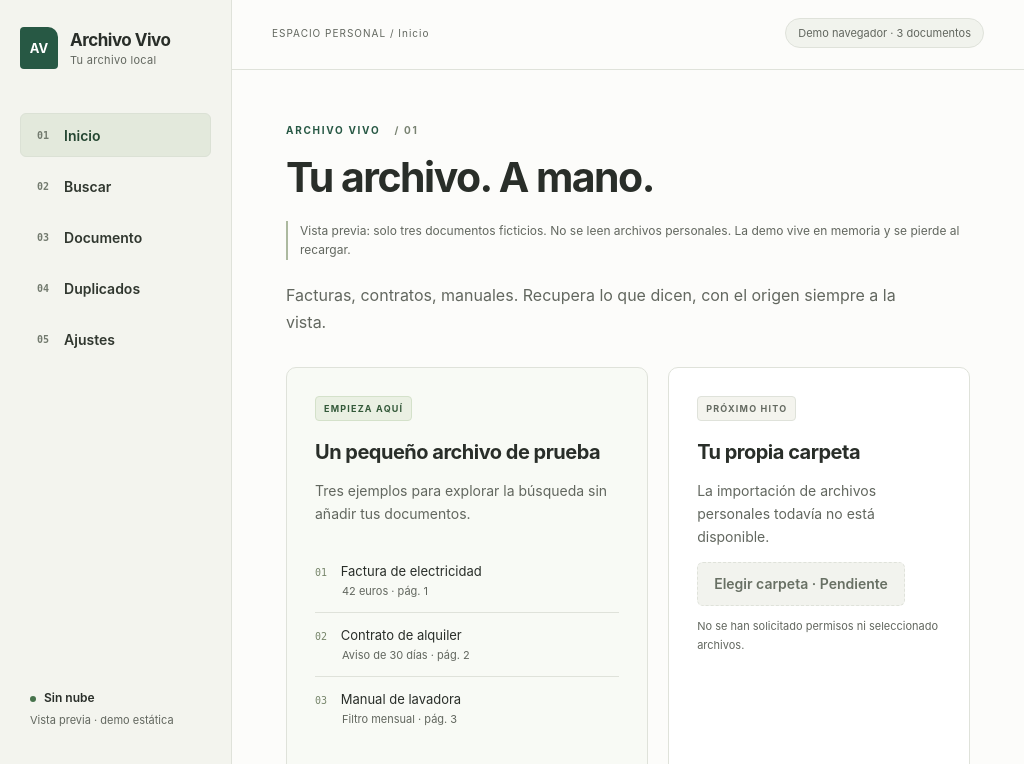
Test: marca duplicados y exportación como pendientes y borra la demo con confirmación
The width and height of the screenshot is (1024, 764).
Click the button "04 Duplicados".
click(116, 288)  # box [20, 266, 211, 310]
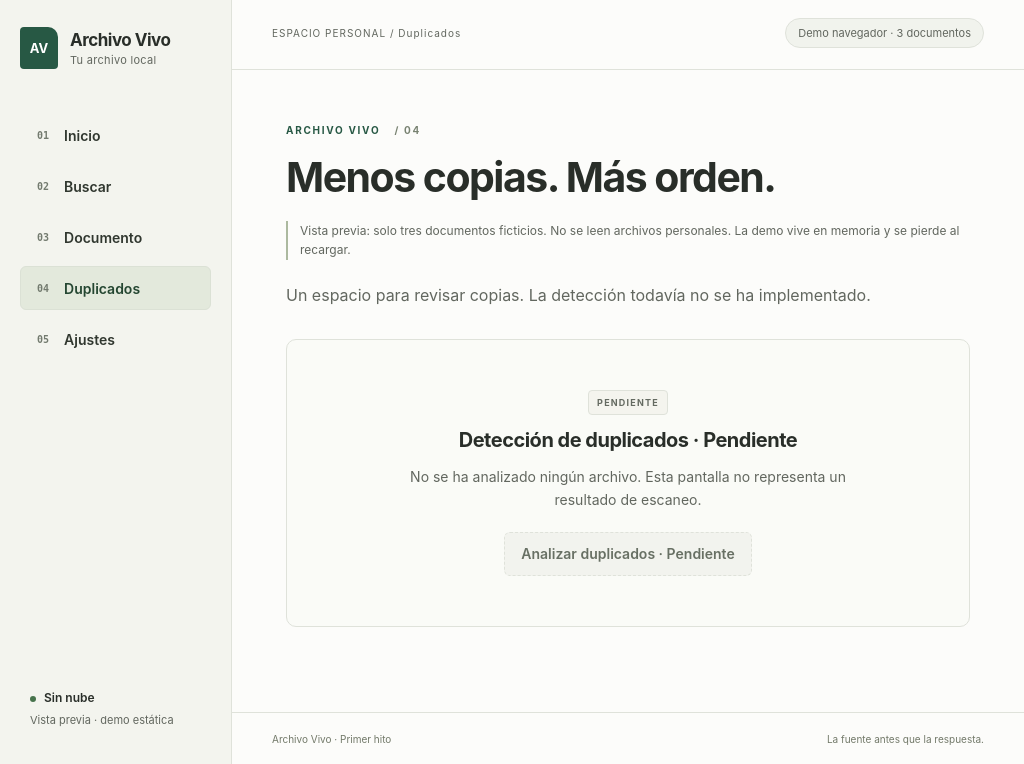
Now the heading "Detección de duplicados · Pendiente" is shown, box [459, 428, 797, 452]
Click the button "05 Ajustes".
click(116, 339)  # box [20, 317, 211, 361]
(page scrolled)
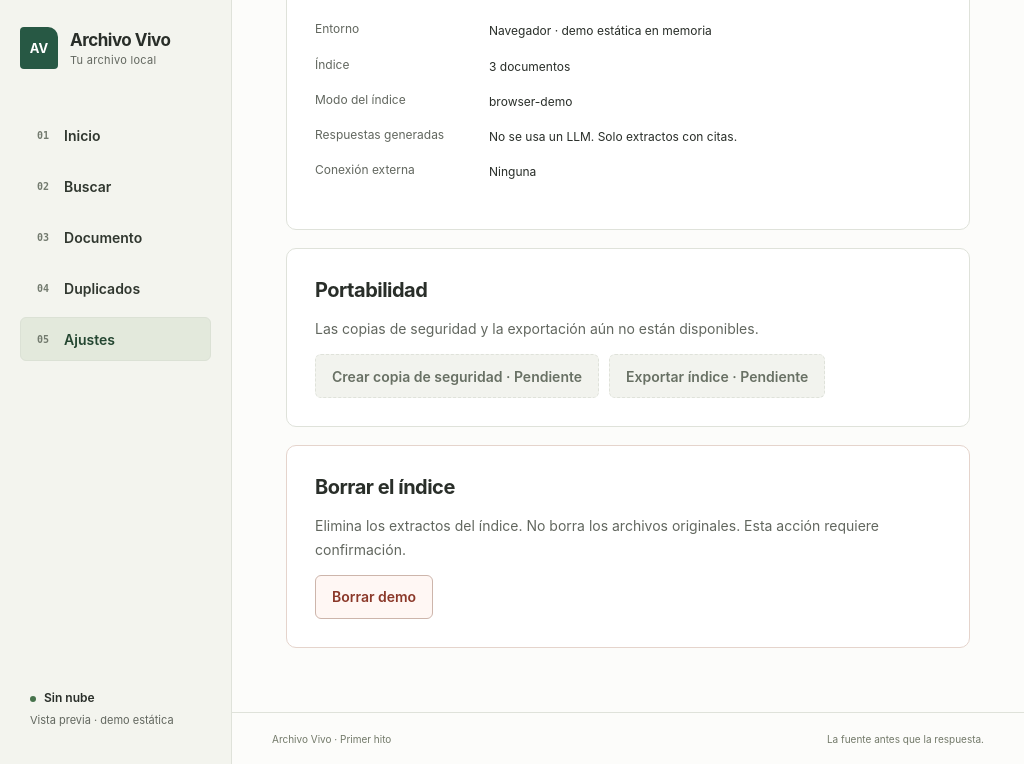
Now the button "Exportar índice · Pendiente" is disabled, box [609, 354, 825, 398]
Click the button "Borrar demo".
click(374, 597)  # box [315, 575, 433, 619]
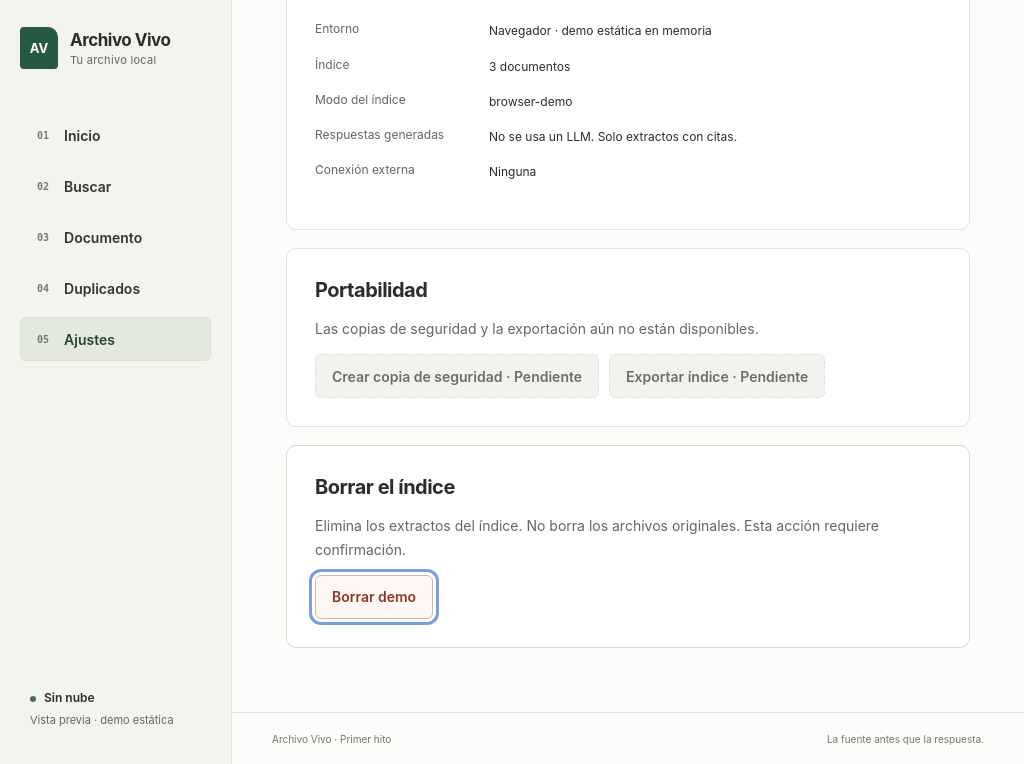
Click the button "Borrar demo".
click(374, 597)  # box [315, 575, 433, 619]
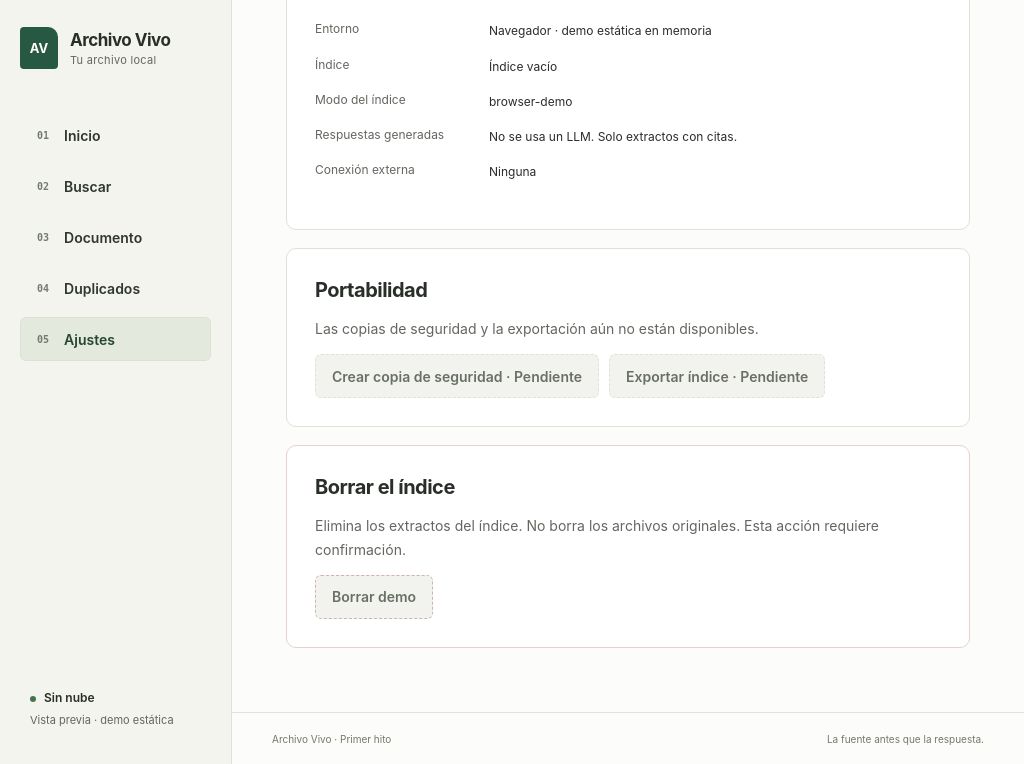
Now the text "Índice vacío" is shown, box [489, 59, 557, 74]
